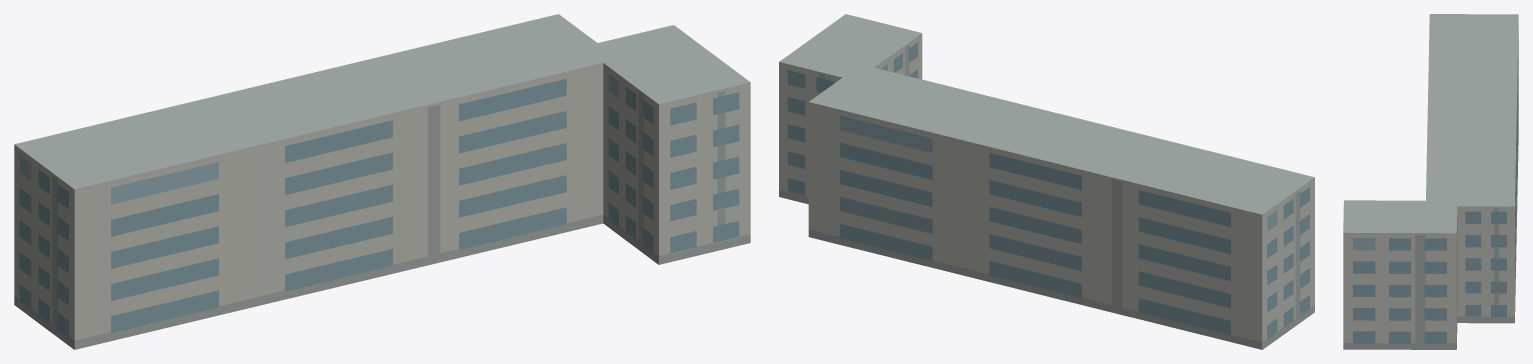
The model's file is residential-64119562-3b78-40cc-b84c-a429df35e9c7.glb.
3 views of the same model, side by side, from view 1: azimuth 30°, elevation 25°; view 2: azimuth 150°, elevation 25°; view 3: azimuth 270°, elevation 25° (orthographic). The views are drawn at different scales.
Parts seen in each view (by area): view 1: residential-64119562-3b78-40cc-b84c-a429df35e9c7.tmp; view 2: residential-64119562-3b78-40cc-b84c-a429df35e9c7.tmp; view 3: residential-64119562-3b78-40cc-b84c-a429df35e9c7.tmp.
Boxes of the visible parts, box(x1,y1,x2,y2) form: residential-64119562-3b78-40cc-b84c-a429df35e9c7.tmp: box(14, 14, 750, 349); residential-64119562-3b78-40cc-b84c-a429df35e9c7.tmp: box(779, 14, 1314, 349); residential-64119562-3b78-40cc-b84c-a429df35e9c7.tmp: box(1343, 14, 1518, 349).
Bounding box in the file's own units: 61.42 × 15.25 × 20.78.
